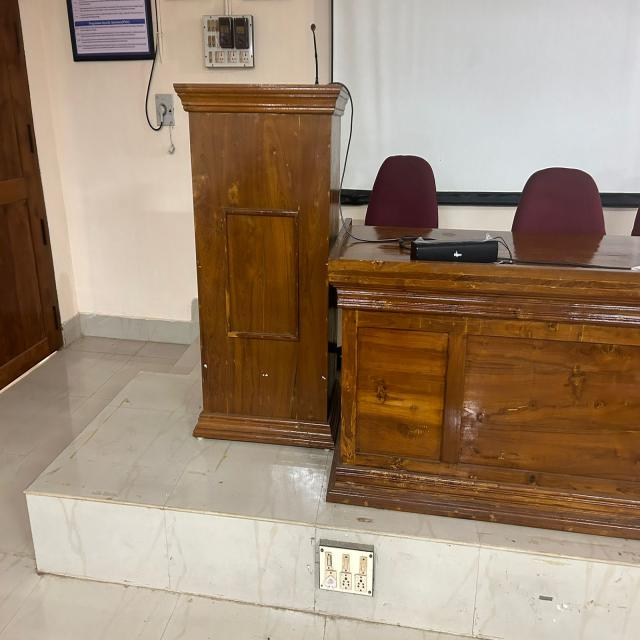Table ahead at: (332, 263, 640, 516), (172, 72, 331, 436)
chair ahead at: (512, 162, 606, 238), (362, 152, 439, 237)
